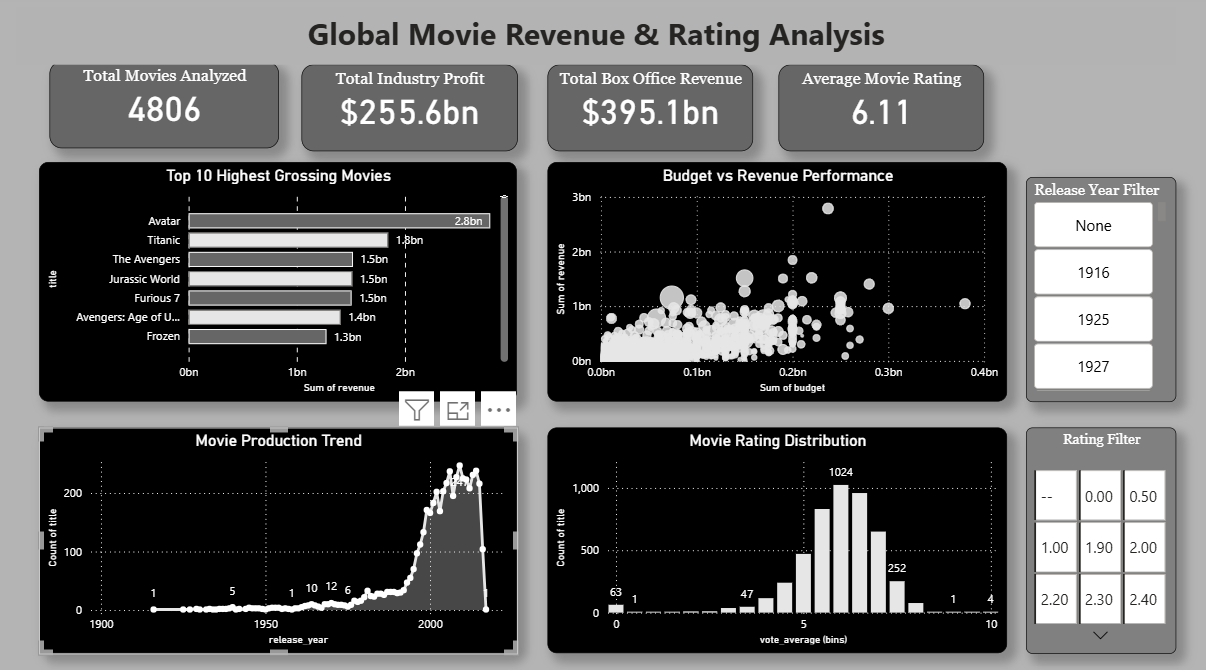

The page's visual inventory and layout, read from the dashboard file:
{"tool":"powerbi","page":{"name":"Movie rating & revenue analysis","canvas":[1280,720],"ordinal":0},"visuals":[{"type":"card","title":"Total Movies Analyzed","fields":{"Values":["tmdb_5000_movies (3).Total Movies"]},"box":[52.5,71.6,243.4,92.3],"z":0},{"type":"card","title":"Total Industry Profit","fields":{"Values":["tmdb_5000_movies (3).Total Profit"]},"box":[319.7,74.8,229,92.3],"z":1000},{"type":"card","title":"Total Box Office Revenue","fields":{"Values":["tmdb_5000_movies (3).Total Revenue"]},"box":[580.6,74.8,217.9,92.3],"z":2000},{"type":"lineChart","title":"Movie Production Trend","fields":{"Category":["tmdb_5000_movies (3).release_year"],"Y":["CountNonNull(tmdb_5000_movies (3).title)"]},"box":[42.9,459.7,507.4,240.2],"z":3000},{"type":"barChart","title":"Top 10 Highest Grossing Movies","fields":{"Category":["tmdb_5000_movies (3).title"],"Y":["Sum(tmdb_5000_movies (3).revenue)"]},"box":[42.1,178.1,506.8,254.2],"z":4000},{"type":"scatterChart","title":"Budget vs Revenue Performance","fields":{"X":["Sum(tmdb_5000_movies (3).budget)"],"Y":["Sum(tmdb_5000_movies (3).revenue)"],"Size":["Sum(tmdb_5000_movies (3).popularity)"],"Category":["tmdb_5000_movies (3).title"]},"box":[581.3,178.1,487.4,254.2],"z":5000},{"type":"columnChart","title":"Movie Rating Distribution","fields":{"Y":["CountNonNull(tmdb_5000_movies (3).title)"],"Category":["tmdb_5000_movies (3).vote_average (bins)"]},"box":[581.3,459.9,487.4,239.6],"z":6000},{"type":"card","title":"Average Movie Rating","fields":{"Values":["tmdb_5000_movies (3).Average Rating"]},"box":[825.5,74.8,217.9,92.3],"z":7000},{"type":"advancedSlicerVisual","title":"Release Year Filter","fields":{"Values":["tmdb_5000_movies (3).release_year"]},"box":[1088,194.1,159.1,238.6],"z":8000},{"type":"advancedSlicerVisual","title":"Rating Filter","fields":{"Values":["tmdb_5000_movies (3).vote_average"]},"box":[1088,459.7,159.1,240.2],"z":9000},{"type":"textbox","box":[17.5,14.3,1229.5,60.4],"z":9001}]}

Visuals, with their boxes in screenshot pixels (x1, y1, x2, y2), scaled from the page's 1280x720 canvas onto the 1206x670 screenshot:
"Total Movies Analyzed" card: bbox(49, 67, 279, 153)
"Total Industry Profit" card: bbox(301, 70, 517, 155)
"Total Box Office Revenue" card: bbox(547, 70, 752, 155)
"Movie Production Trend" lineChart: bbox(40, 428, 518, 651)
"Top 10 Highest Grossing Movies" barChart: bbox(40, 166, 517, 402)
"Budget vs Revenue Performance" scatterChart: bbox(548, 166, 1007, 402)
"Movie Rating Distribution" columnChart: bbox(548, 428, 1007, 651)
"Average Movie Rating" card: bbox(778, 70, 983, 155)
"Release Year Filter" advancedSlicerVisual: bbox(1025, 181, 1175, 403)
"Rating Filter" advancedSlicerVisual: bbox(1025, 428, 1175, 651)
textbox: bbox(16, 13, 1175, 70)
